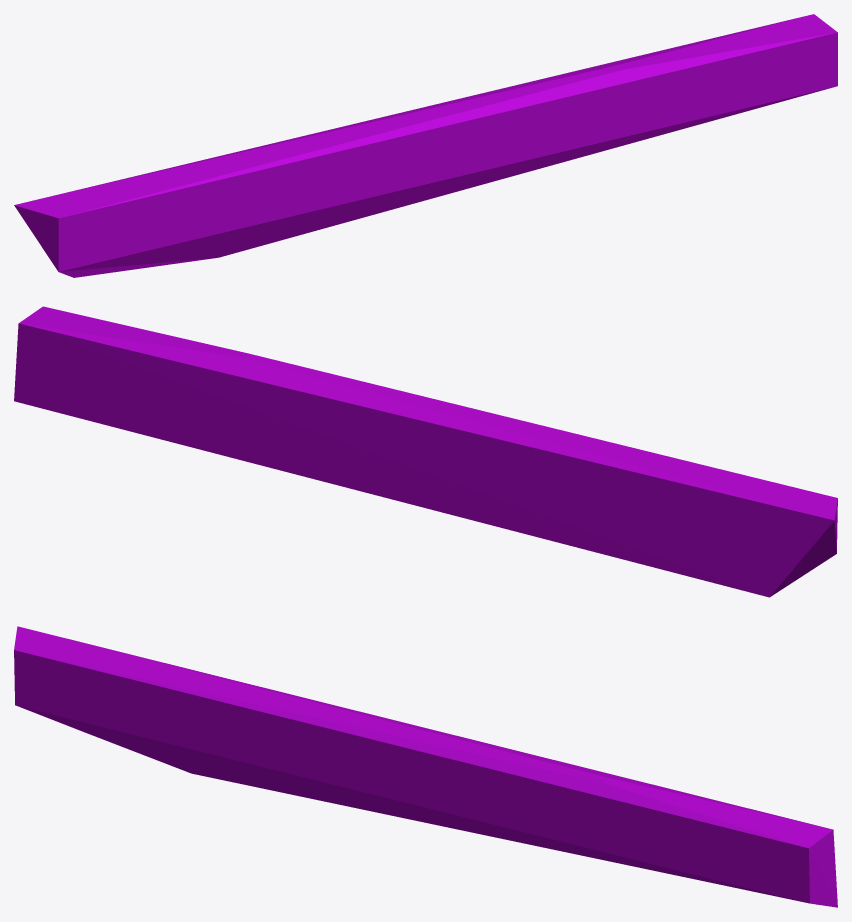
File: waste_bin_convex_piece_005.obj
3 views of the same model, one above another, from view 1: azimuth 30°, elevation 25°; view 2: azimuth 150°, elevation 25°; view 3: azimuth 330°, elevation 25° (orthographic). The views are drawn at different scales.
Size of the model in its own units: 0.2538 by 0.0286 by 0.0147.
